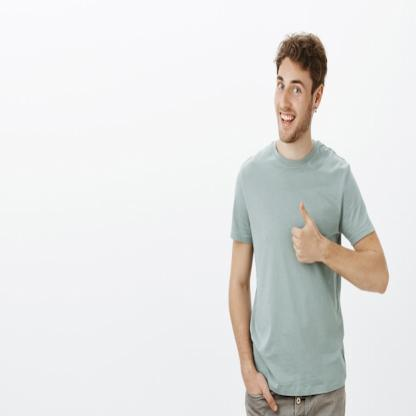thumb_up: (285, 198, 322, 272)
